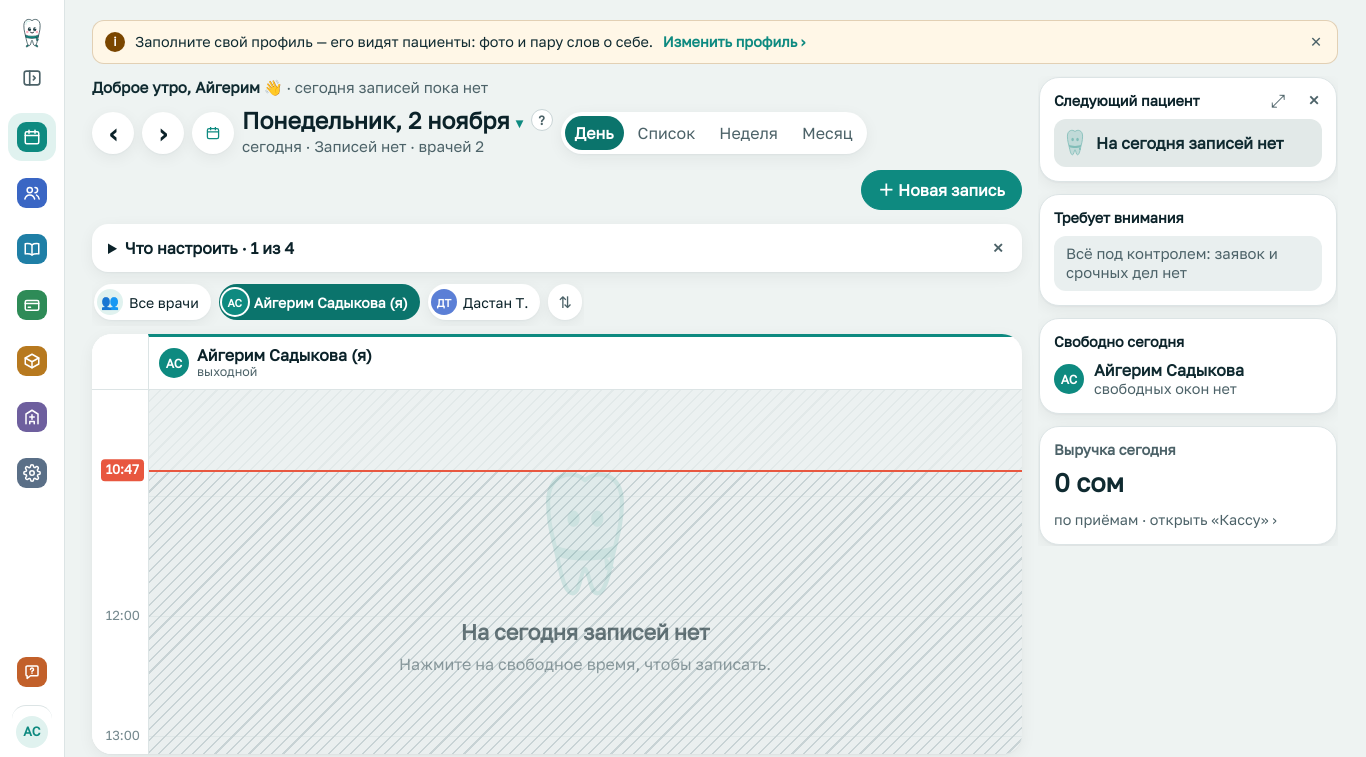
Test: «Другое время» в 10:47 — подставлено 10:50 (вверх до 5 минут), а не текущая минута
(page scrolled)
Click the button "＋ Новая запись" at (942, 190), box [861,170,1022,210]
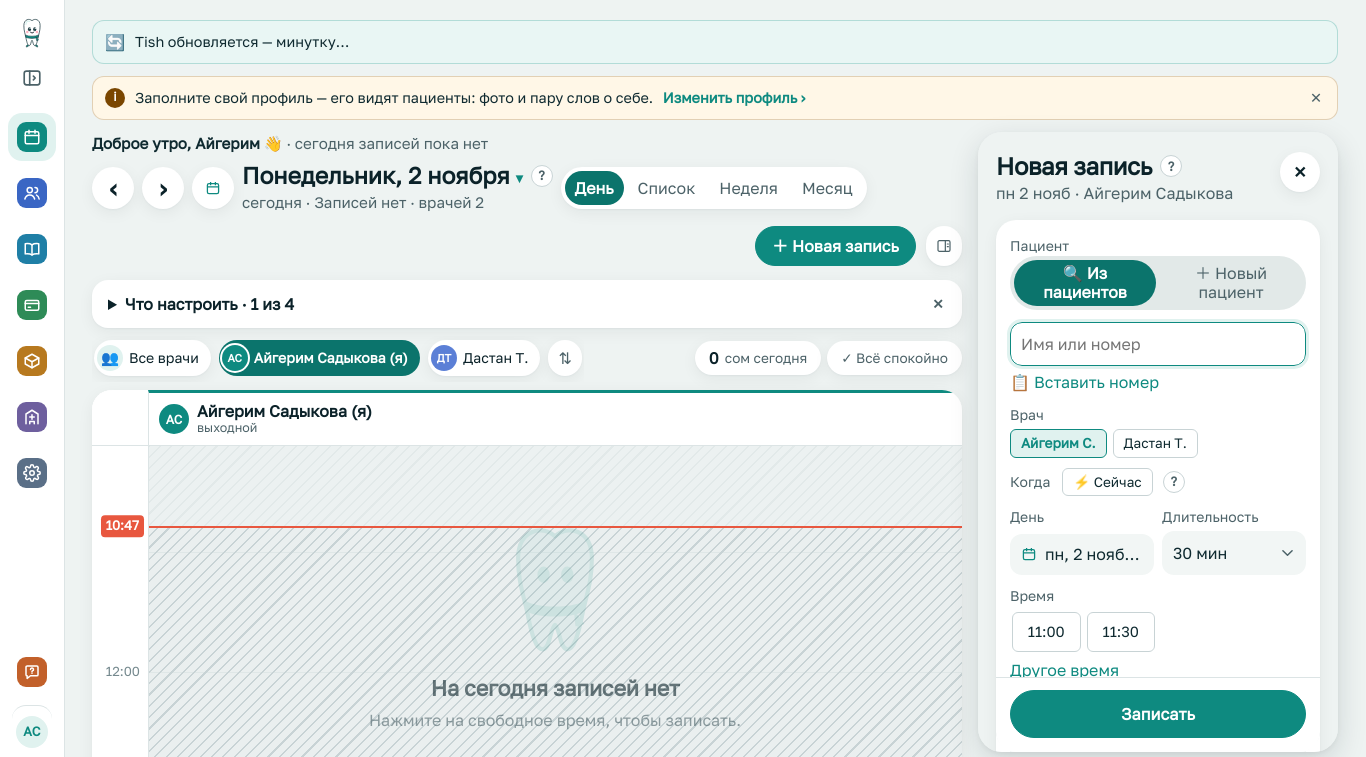
Click the button "Другое время" at (1064, 670), box [1010,658,1119,682]
(page scrolled)
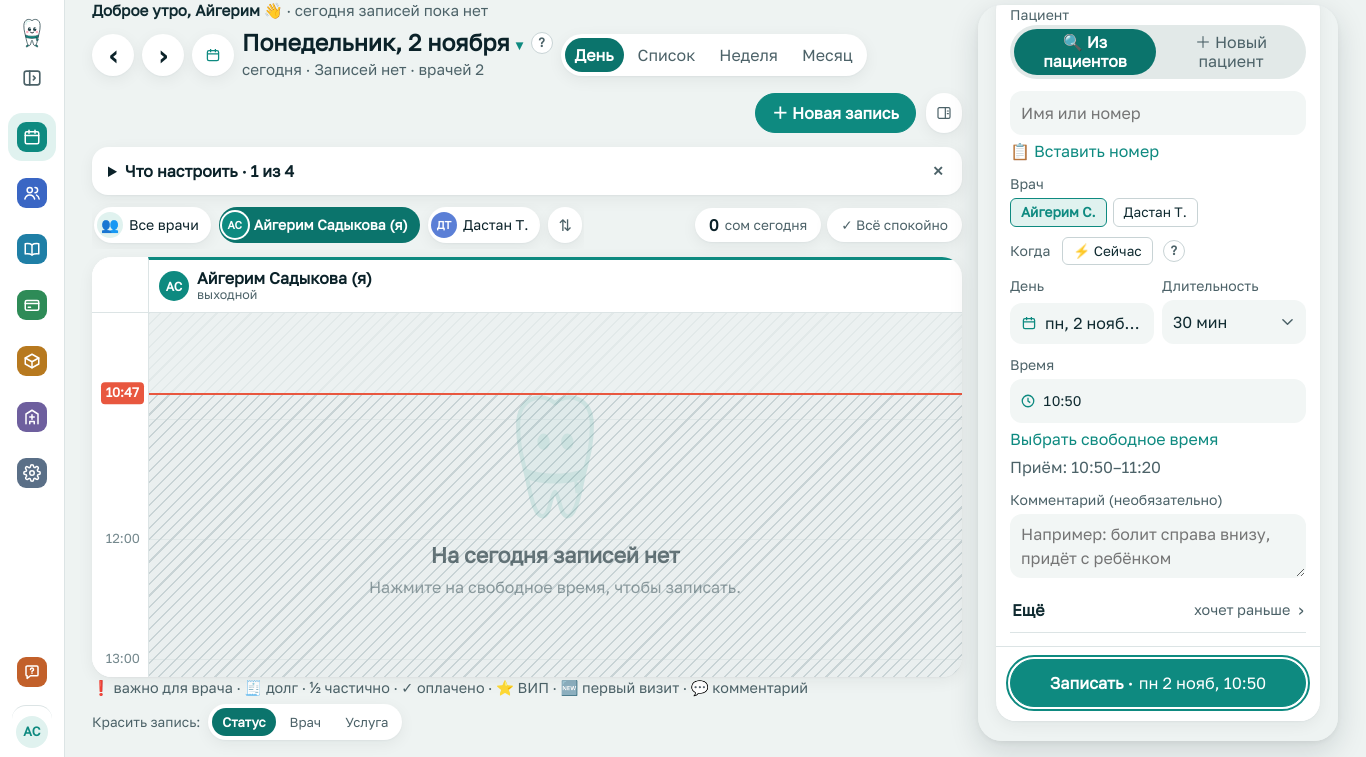
Expected: the field named "Время" holds "10:50", [1010,378,1306,422]
Expected: the text "Приём: 10:50–11:20" is shown, [1010,456,1161,476]
